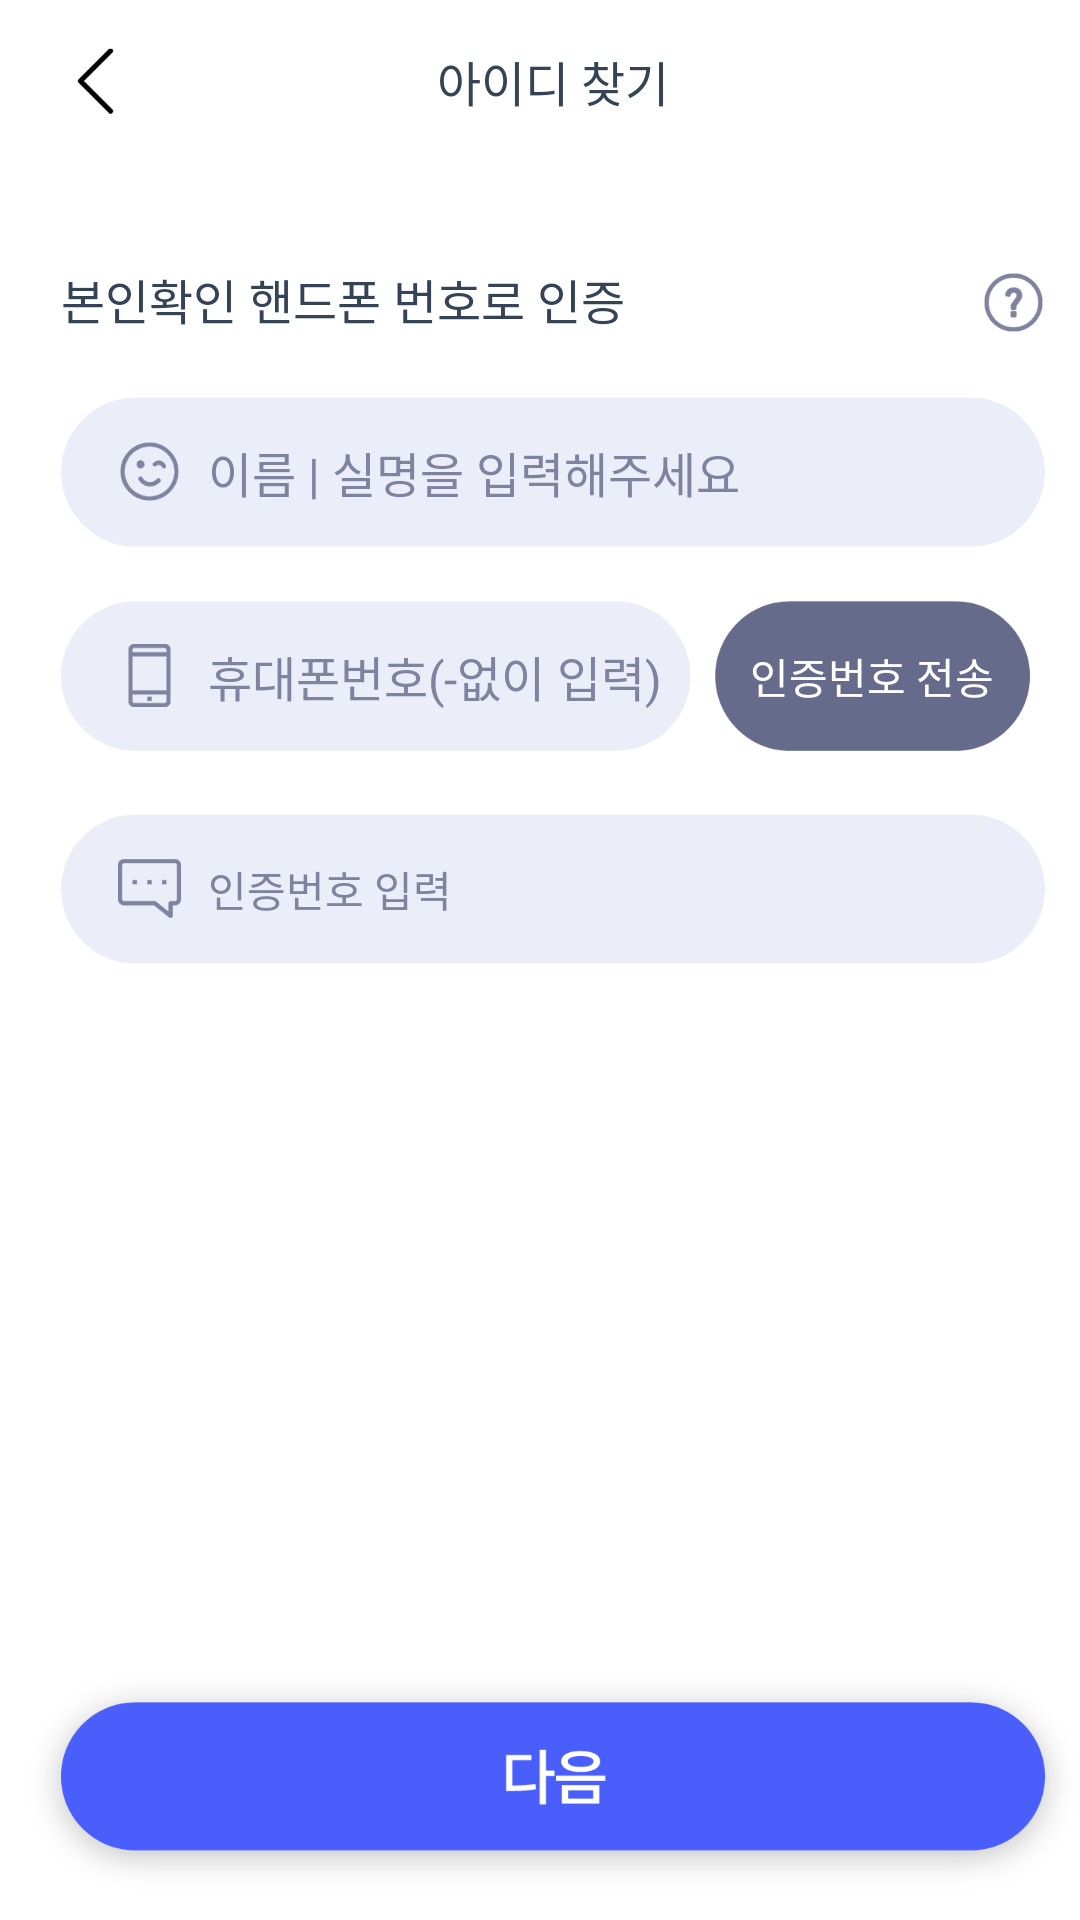

Where icons sit on this 1080 × 1920 app screen, as (x1, y1, x2, y2):
help: (984, 273, 1043, 332)
mobile: (128, 644, 171, 707)
top back: (77, 48, 114, 114)
